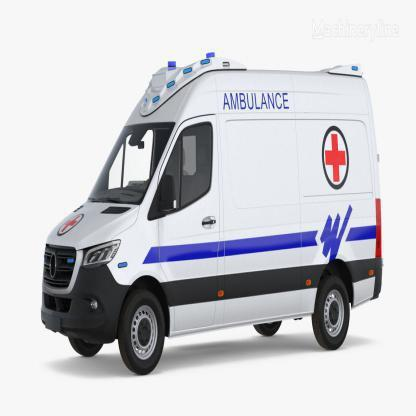ambulance_off: (44, 58, 383, 376)
